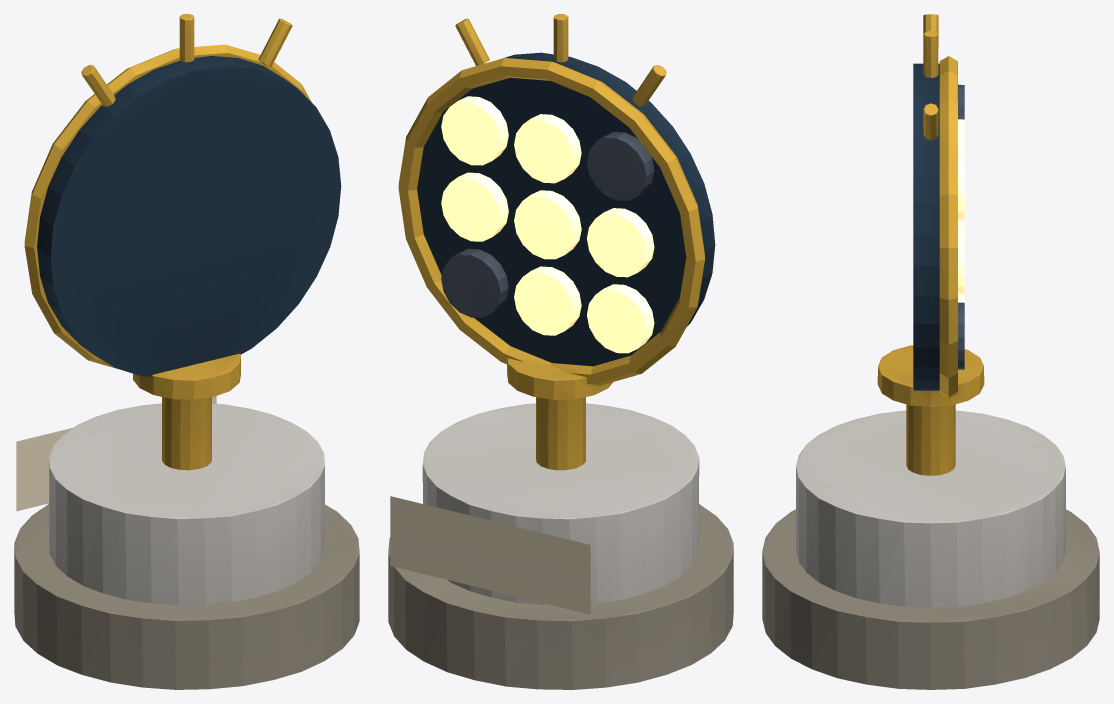
File: trophy_lights_low.glb
3 views of the same model, side by side, from view 1: azimuth 30°, elevation 25°; view 2: azimuth 150°, elevation 25°; view 3: azimuth 270°, elevation 25° (orthographic). The views are drawn at different scales.
Visible parts, largest first — view 1: symbol, common_pedestal, trophy_plate; view 2: symbol, common_pedestal, trophy_plate; view 3: common_pedestal, symbol.
Part boxes in pixels (left/top/right/bottom): symbol: left=24, top=14, right=341, bottom=470; common_pedestal: left=14, top=403, right=359, bottom=689; trophy_plate: left=16, top=396, right=216, bottom=511; symbol: left=398, top=14, right=715, bottom=470; common_pedestal: left=388, top=403, right=733, bottom=689; trophy_plate: left=390, top=496, right=590, bottom=614; common_pedestal: left=762, top=410, right=1099, bottom=689; symbol: left=877, top=14, right=984, bottom=475.
Bounding box in the file's own units: 0.9188 × 1.72 × 0.8987.
